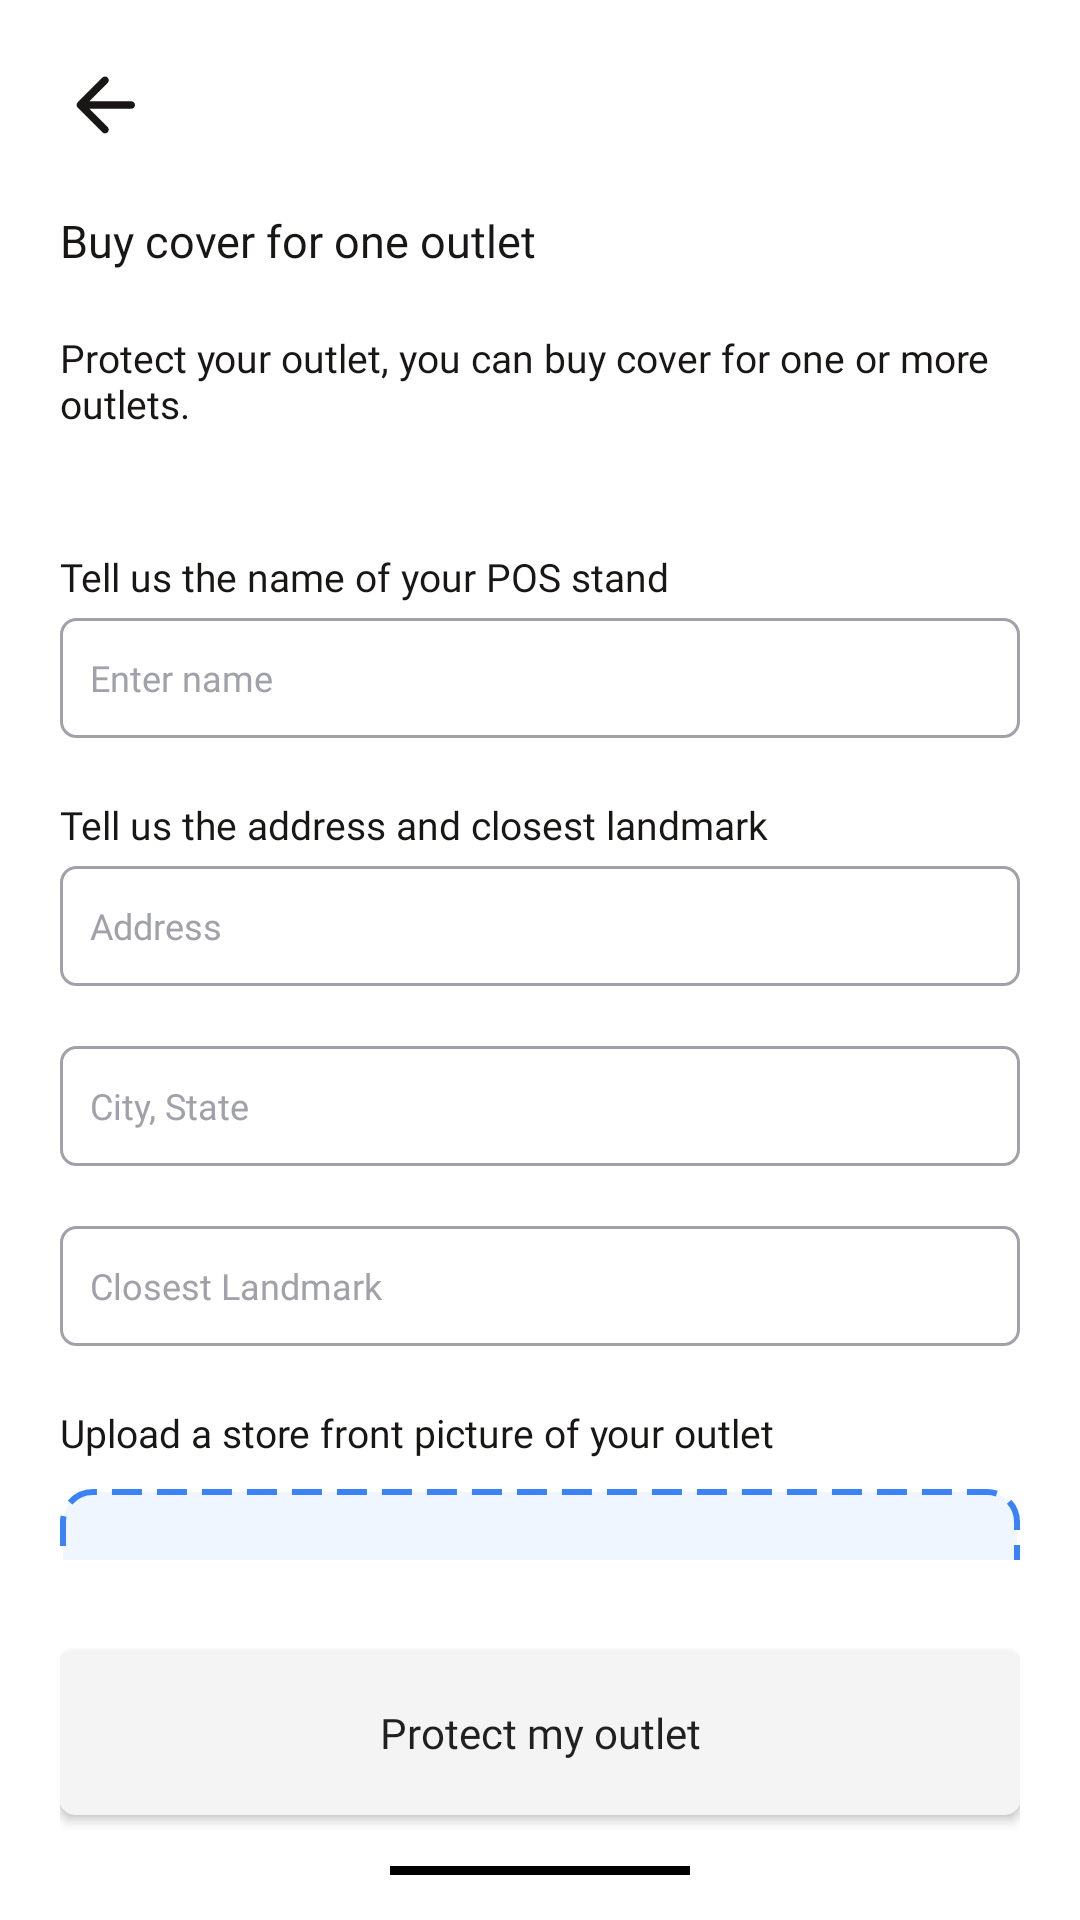

Named icons in this screenshot (1080px x 1920px) and their bounding boxes, (x1, y1, x2, y2):
arrow left: (76, 76, 135, 134)
